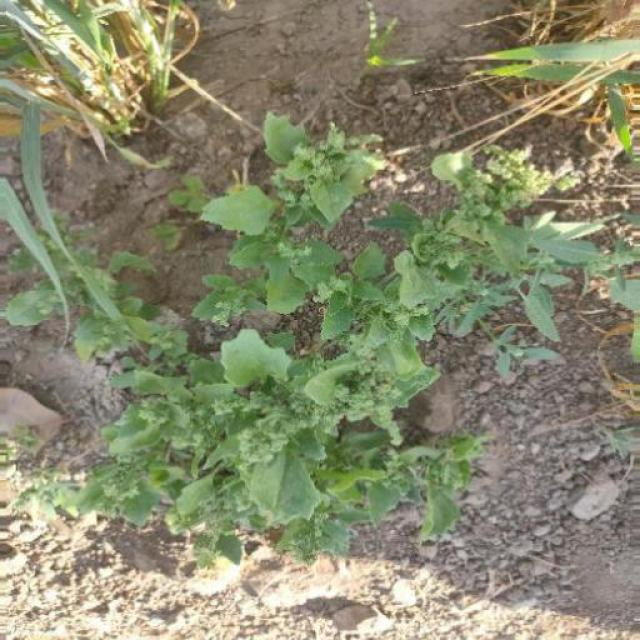weed: (43, 155, 626, 567), (1, 6, 210, 160)
